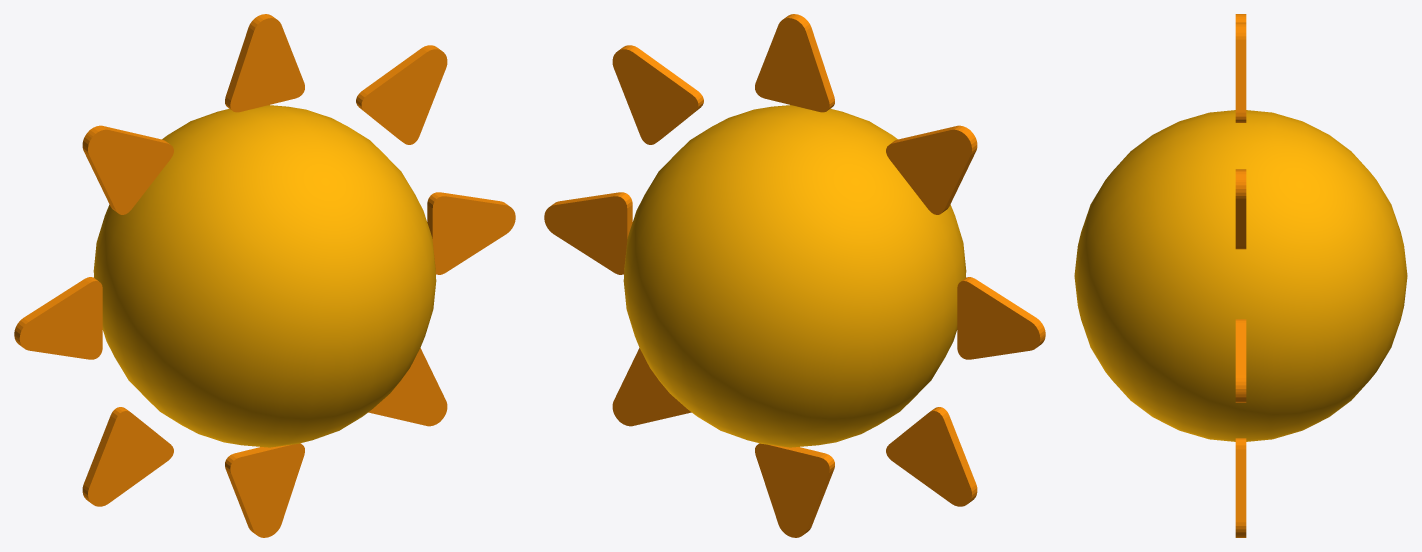
File: sun.gltf
3 views of the same model, side by side, from view 1: azimuth 30°, elevation 25°; view 2: azimuth 150°, elevation 25°; view 3: azimuth 270°, elevation 25° (orthographic). The views are drawn at different scales.
Visible parts, largest first — view 1: Cube.192; view 2: Cube.192; view 3: Cube.192.
Part boxes in pixels (x1,y1,x2,y2): Cube.192: (14,14,515,537); Cube.192: (544,14,1045,537); Cube.192: (1074,14,1407,537).
Bounding box in the file's own units: 2.28 × 2.28 × 1.37.
1 material, 1 textured.
